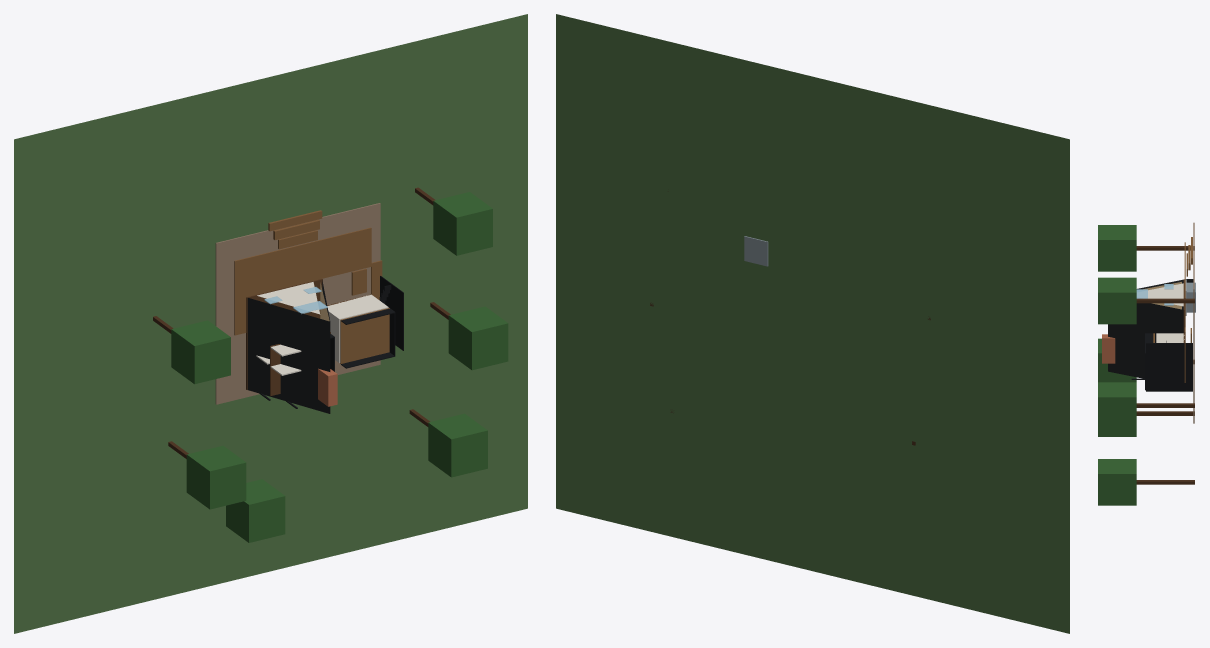
File: projeto_pn_modelo_base.obj
3 views of the same model, side by side, from view 1: azimuth 30°, elevation 25°; view 2: azimuth 150°, elevation 25°; view 3: azimuth 270°, elevation 25° (orthographic). The views are drawn at different scales.
Visible parts, largest first — view 1: terreno_base, plataforma_implantacao, cobertura_esquerda, deck_frontal, arvore_copa_01, arvore_copa_04, arvore_copa_03, arvore_copa_05, arvore_copa_06, arvore_copa_02, anexo_terraco, anexo_corpo (+2 smaller); view 2: terreno_base; view 3: cobertura_direita, corrimao_terraco_1, arvore_copa_06, arvore_copa_03, arvore_copa_04, arvore_copa_05, arvore_copa_01, fachada_traseira_branca, chamine, plataforma_implantacao, arvore_tronco_06, arvore_copa_02 (+6 smaller).
Boxes of the visible parts, box(x1,y1,x2,y2) form: terreno_base: box(14, 14, 527, 633); plataforma_implantacao: box(215, 203, 380, 404); cobertura_esquerda: box(247, 298, 330, 413); deck_frontal: box(234, 227, 371, 299); arvore_copa_01: box(186, 445, 246, 509); arvore_copa_04: box(448, 306, 508, 370); arvore_copa_03: box(428, 413, 487, 477); arvore_copa_05: box(171, 320, 230, 384); arvore_copa_06: box(433, 192, 492, 255); arvore_copa_02: box(226, 479, 285, 542); anexo_terraco: box(340, 308, 389, 363); anexo_corpo: box(327, 294, 388, 362); terreno_base: box(556, 14, 1069, 633); cobertura_direita: box(1108, 303, 1183, 378); corrimao_terraco_1: box(1146, 343, 1192, 391); arvore_copa_06: box(1098, 277, 1136, 324); arvore_copa_03: box(1098, 459, 1136, 505); arvore_copa_04: box(1098, 382, 1136, 428); arvore_copa_05: box(1098, 225, 1136, 271); arvore_copa_01: box(1098, 338, 1136, 382); fachada_traseira_branca: box(1137, 283, 1183, 306); chamine: box(1102, 334, 1115, 363); plataforma_implantacao: box(1193, 222, 1194, 423); arvore_tronco_06: box(1136, 298, 1194, 303); arvore_copa_02: box(1098, 429, 1136, 436).
Size of the model in its own units: 50 by 46 by 9.9.
